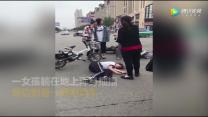Fall-Detected: (80, 55, 124, 84)
